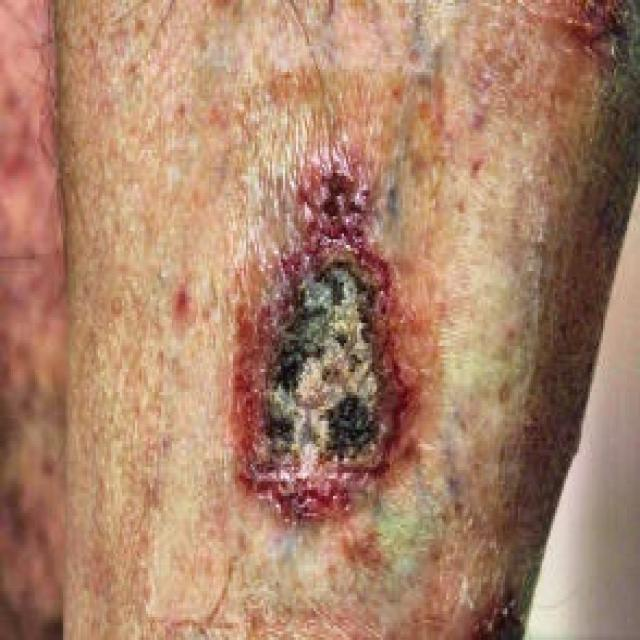Atopic-Dermatitis: (231, 144, 439, 520)
